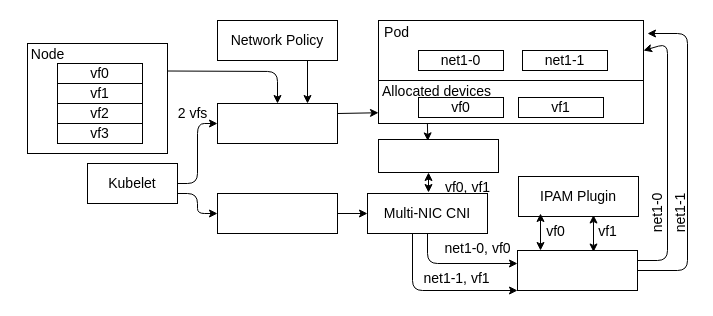
The diagram is 713 pixels wide and 316 high, and some of its shapes have lost their labels. The box of each missing label's shape, as (x1, y1, x2, y2) in pixels:
Device Plugin: (216, 102, 338, 144)
Main CNI Plugin: (516, 250, 638, 290)
Multi-NIC Daemon: (378, 138, 498, 172)
Multus CNI: (216, 192, 338, 234)
